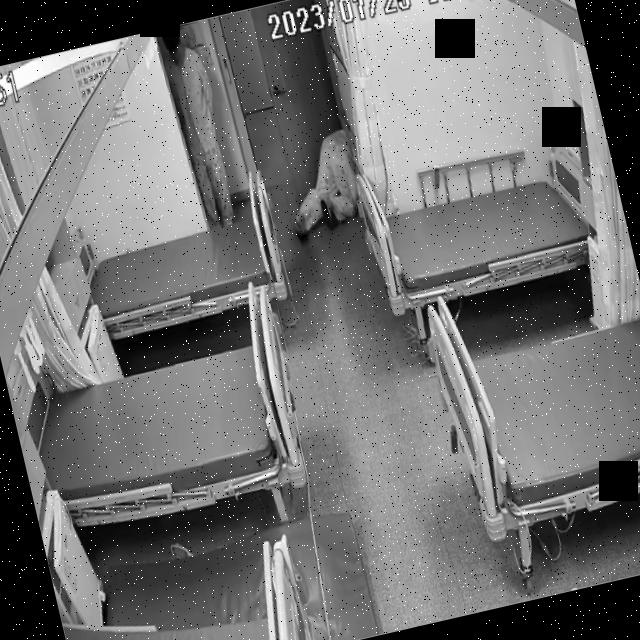bed: (418, 252, 640, 540), (21, 327, 312, 535), (356, 149, 611, 318), (82, 202, 288, 340)
fall: (275, 128, 372, 244)
patient: (157, 22, 236, 229), (274, 126, 374, 244)
stand: (156, 22, 236, 228)
